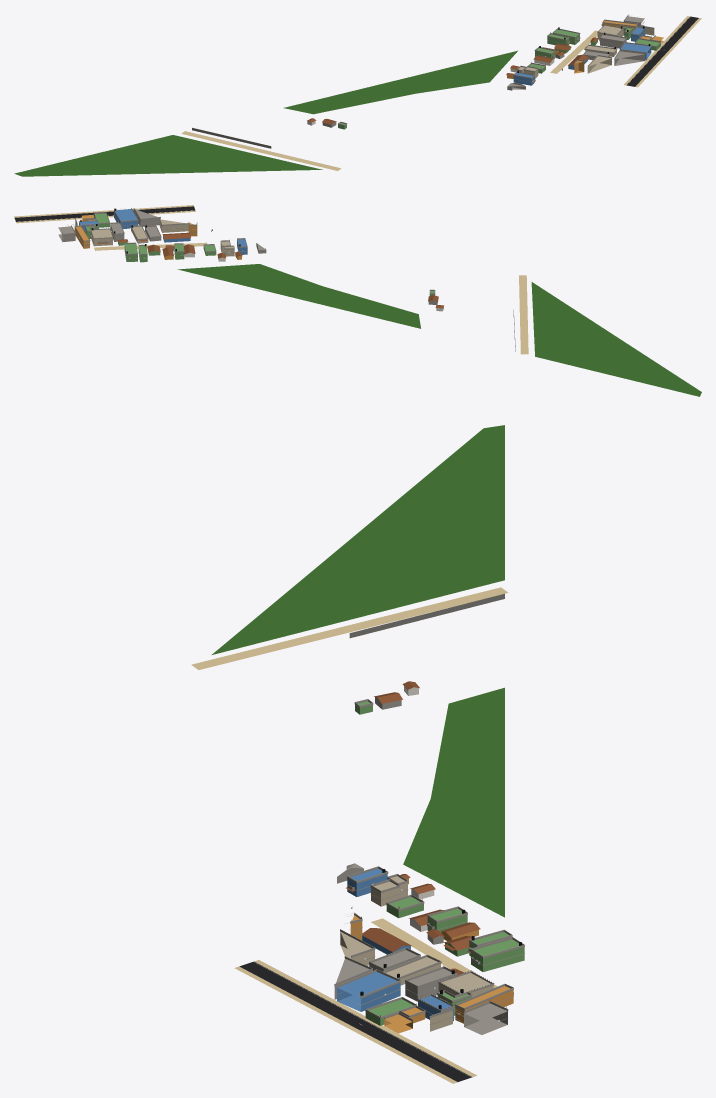
The model's file is zone_t3_3.glb.
3 views of the same model, one above another, from view 1: azimuth 30°, elevation 25°; view 2: azimuth 150°, elevation 25°; view 3: azimuth 270°, elevation 25° (orthographic). The views are drawn at different scales.
Parts seen in each view (by area): view 1: zone_humide_t3_3, parapet_t3_3, bld_beton_t3_3-col, bld_peinture_vert_t3_3-col, bld_peinture_ecaillee_t3_3-col, route_secondary_bitume_t3_3, route_unclassified_terre_t3_3, bld_peinture_bleu_t3_3-col, accotement_t3_3, toit_tole_t3_3, bld_peinture_ocre_t3_3-col, route_residential_terre_t3_3; view 2: zone_humide_t3_3, parapet_t3_3, bld_peinture_ecaillee_t3_3-col, bld_beton_t3_3-col, bld_peinture_vert_t3_3-col, bld_peinture_bleu_t3_3-col, route_unclassified_terre_t3_3, toit_tole_t3_3, route_secondary_bitume_t3_3, accotement_t3_3, bld_peinture_ocre_t3_3-col; view 3: zone_humide_t3_3, parapet_t3_3, bld_peinture_vert_t3_3-col, bld_beton_t3_3-col, bld_peinture_ecaillee_t3_3-col, route_secondary_bitume_t3_3, bld_peinture_bleu_t3_3-col, route_unclassified_terre_t3_3, accotement_t3_3, toit_tole_t3_3, bld_peinture_ocre_t3_3-col, route_residential_terre_t3_3.
Part boxes in pixels (box(x1,y1,x2,y2)): zone_humide_t3_3: box(14, 50, 517, 176); parapet_t3_3: box(338, 15, 661, 126); bld_beton_t3_3-col: box(322, 16, 645, 127); bld_peinture_vert_t3_3-col: box(338, 27, 660, 129); bld_peinture_ecaillee_t3_3-col: box(517, 25, 654, 78); route_secondary_bitume_t3_3: box(626, 16, 698, 86); route_unclassified_terre_t3_3: box(181, 131, 341, 170); bld_peinture_bleu_t3_3-col: box(513, 27, 651, 85); accotement_t3_3: box(624, 16, 701, 87); toit_tole_t3_3: box(307, 37, 598, 124); bld_peinture_ocre_t3_3-col: box(507, 20, 663, 78); route_residential_terre_t3_3: box(550, 30, 597, 73); zone_humide_t3_3: box(177, 264, 701, 396); parapet_t3_3: box(60, 208, 435, 294); bld_peinture_ecaillee_t3_3-col: box(75, 219, 234, 256); bld_beton_t3_3-col: box(58, 209, 437, 304); bld_peinture_vert_t3_3-col: box(85, 213, 434, 295); bld_peinture_bleu_t3_3-col: box(79, 209, 247, 254); route_unclassified_terre_t3_3: box(519, 275, 528, 354); toit_tole_t3_3: box(118, 232, 443, 308); route_secondary_bitume_t3_3: box(14, 206, 194, 221); accotement_t3_3: box(14, 205, 195, 223); bld_peinture_ocre_t3_3-col: box(74, 215, 241, 259); zone_humide_t3_3: box(212, 425, 504, 917); parapet_t3_3: box(334, 699, 524, 1023); bld_peinture_vert_t3_3-col: box(355, 701, 524, 1025); bld_beton_t3_3-col: box(334, 697, 507, 1034); bld_peinture_ecaillee_t3_3-col: box(340, 876, 493, 1031); route_secondary_bitume_t3_3: box(239, 961, 472, 1081); bld_peinture_bleu_t3_3-col: box(337, 868, 453, 1021); route_unclassified_terre_t3_3: box(191, 587, 508, 669); accotement_t3_3: box(234, 960, 476, 1083); toit_tole_t3_3: box(362, 681, 480, 975); bld_peinture_ocre_t3_3-col: box(350, 878, 513, 1033); route_residential_terre_t3_3: box(371, 918, 497, 987).
Bounding box in the file's own units: 619 × 10.9 × 132.
